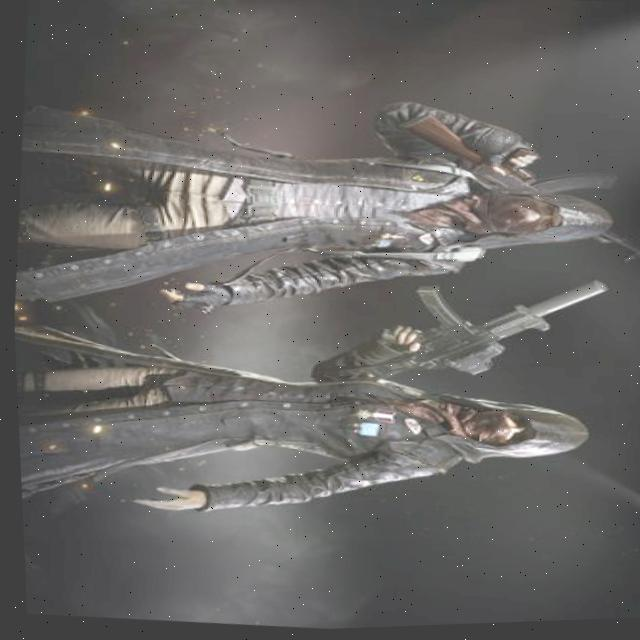firearm: (390, 109, 640, 275), (371, 268, 606, 396)
